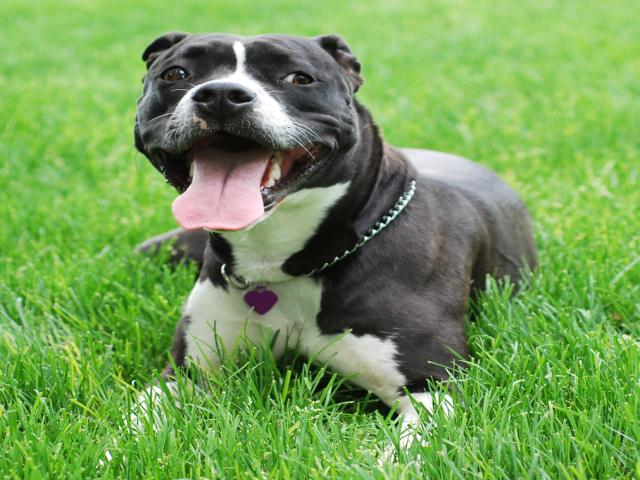Dog: (97, 31, 536, 480)
